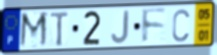2: (83, 10, 102, 46)
C: (171, 8, 191, 43)
F: (141, 8, 168, 46)
J: (110, 10, 130, 45)
M: (18, 11, 49, 50)
T: (49, 10, 70, 48)
